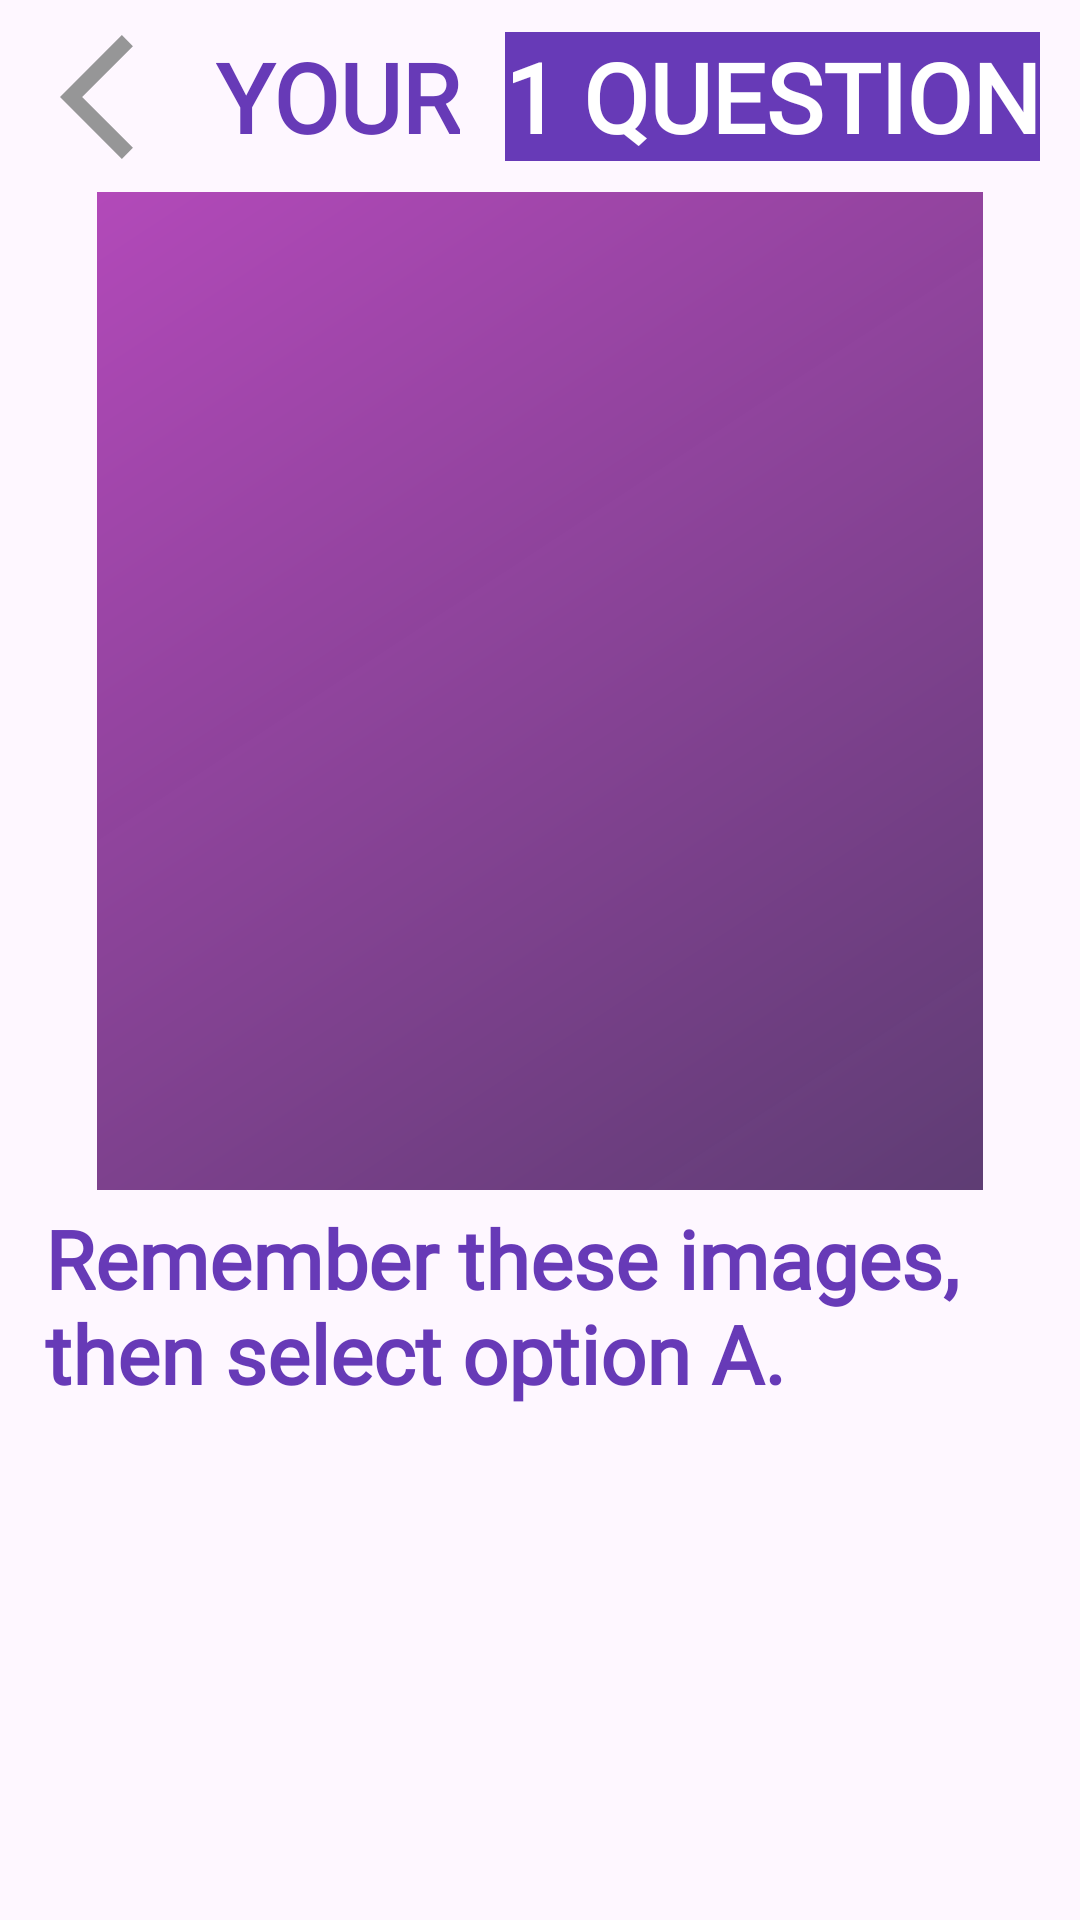

Icons on this 1080x1920 Android screen, each with the point to tap as point (x, y):
arrow back: point (96, 97)
